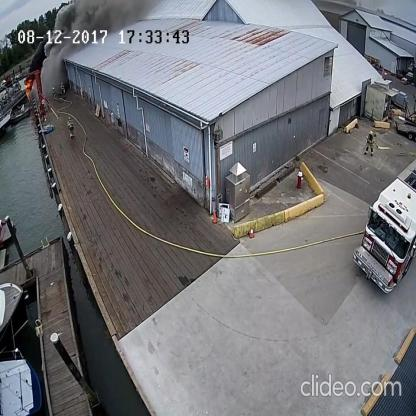fire: (23, 77, 35, 100)
